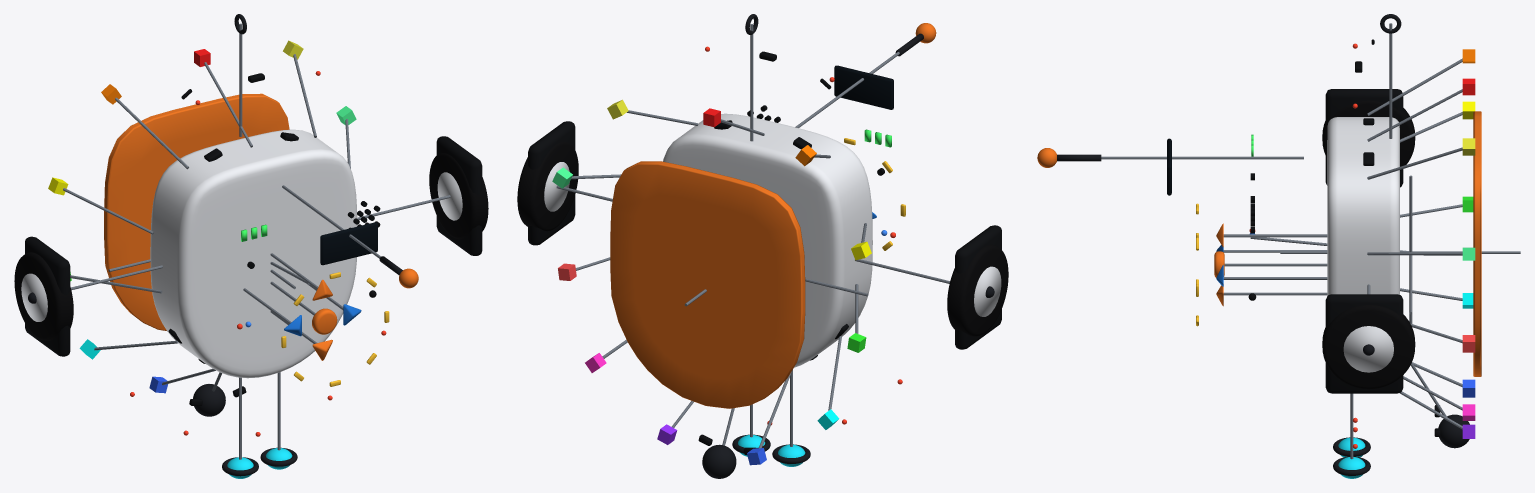
The model's file is carthabot_exploded.obj.
3 views of the same model, side by side, from view 1: azimuth 30°, elevation 25°; view 2: azimuth 150°, elevation 25°; view 3: azimuth 270°, elevation 25° (orthographic). The views are drawn at different scales.
Visible parts, largest first — view 1: CarthaBot_Body, CarthaBot_Stripe, Wheel_R_Tire, Wheel_L_Tire, Wheel_L_Well, Screen, Wheel_R_Well, Wheel_R_Rim, Wheel_L_Rim, Caster, Btn_Center; view 2: CarthaBot_Stripe, CarthaBot_Body, Wheel_R_Tire, Wheel_L_Tire, Screen, Wheel_L_Well, Wheel_R_Well, Wheel_R_Rim, Caster, Wheel_L_Rim; view 3: CarthaBot_Body, Wheel_L_Tire, CarthaBot_Stripe, Wheel_L_Well, Wheel_L_Rim, Wheel_R_Tire, Wheel_R_Well, Caster, Guide_Antenna_Ball.
Boxes of the visible parts, x1=… form: CarthaBot_Body: x1=150, y1=129, x2=357, y2=378; CarthaBot_Stripe: x1=104, y1=93, x2=289, y2=330; Wheel_R_Tire: x1=14, y1=252, x2=73, y2=340; Wheel_L_Tire: x1=429, y1=153, x2=488, y2=239; Wheel_L_Well: x1=436, y1=136, x2=482, y2=255; Screen: x1=320, y1=222, x2=377, y2=265; Wheel_R_Well: x1=25, y1=236, x2=70, y2=356; Wheel_R_Rim: x1=21, y1=273, x2=47, y2=321; Wheel_L_Rim: x1=437, y1=172, x2=462, y2=220; Caster: x1=193, y1=384, x2=225, y2=416; Btn_Center: x1=312, y1=308, x2=337, y2=334; CarthaBot_Stripe: x1=610, y1=161, x2=805, y2=408; CarthaBot_Body: x1=663, y1=113, x2=872, y2=367; Wheel_R_Tire: x1=947, y1=244, x2=1008, y2=336; Wheel_L_Tire: x1=517, y1=141, x2=578, y2=231; Screen: x1=834, y1=65, x2=893, y2=109; Wheel_L_Well: x1=528, y1=121, x2=575, y2=245; Wheel_R_Well: x1=955, y1=225, x2=1001, y2=349; Wheel_R_Rim: x1=974, y1=266, x2=1001, y2=316; Caster: x1=702, y1=444, x2=736, y2=478; Wheel_L_Rim: x1=544, y1=162, x2=569, y2=211; CarthaBot_Body: x1=1327, y1=117, x2=1399, y2=295; Wheel_L_Tire: x1=1322, y1=305, x2=1415, y2=389; CarthaBot_Stripe: x1=1473, y1=111, x2=1481, y2=376; Wheel_L_Well: x1=1325, y1=294, x2=1403, y2=393; Wheel_L_Rim: x1=1343, y1=326, x2=1393, y2=372; Wheel_R_Tire: x1=1322, y1=100, x2=1415, y2=170; Wheel_R_Well: x1=1325, y1=89, x2=1403, y2=187; Caster: x1=1438, y1=414, x2=1469, y2=448; Guide_Antenna_Ball: x1=1101, y1=156, x2=1275, y2=159.
Size of the model in its own units: 6.23 by 5.93 by 5.73.
